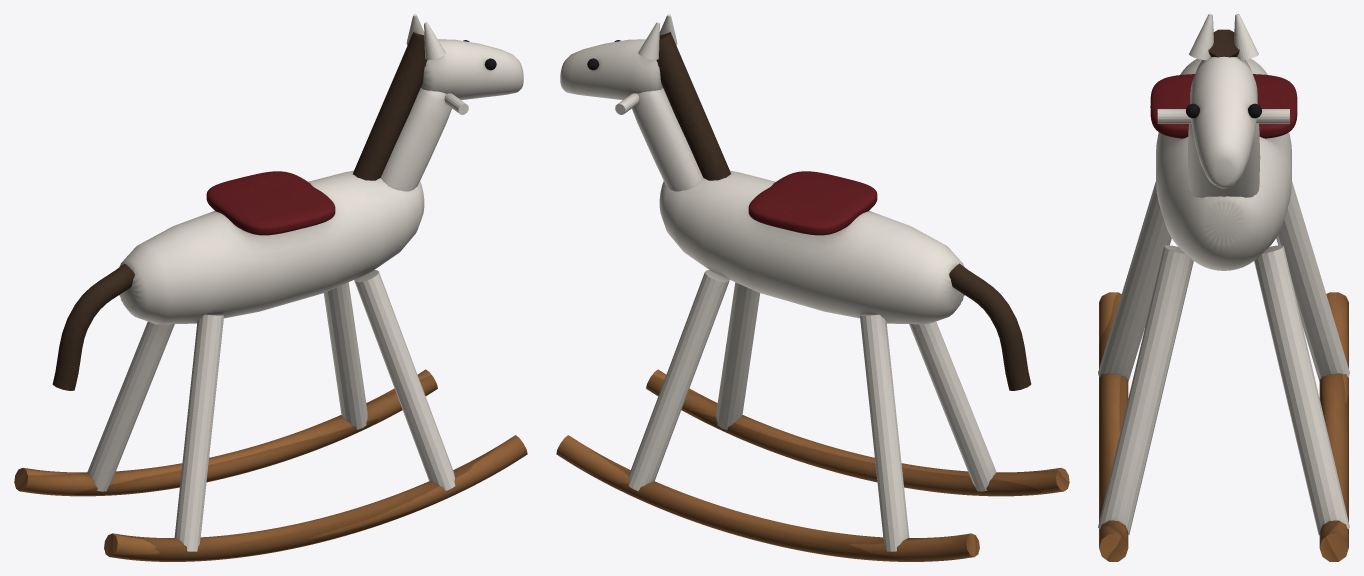
Rendered from painted-white.glb.
3 views of the same model, side by side, from view 1: azimuth 30°, elevation 25°; view 2: azimuth 150°, elevation 25°; view 3: azimuth 270°, elevation 25° (orthographic). The views are drawn at different scales.
Parts seen in each view (by area): view 1: paint_primary_horse, wood_rocker, mane_yarn, saddle_leather; view 2: paint_primary_horse, wood_rocker, mane_yarn, saddle_leather; view 3: paint_primary_horse, wood_rocker, saddle_leather, mane_yarn, eye_black.
Part boxes in pixels (x1,y1,x2,y2): paint_primary_horse: [87, 14, 523, 551]; wood_rocker: [14, 369, 527, 561]; mane_yarn: [52, 32, 427, 390]; saddle_leather: [206, 171, 335, 235]; paint_primary_horse: [560, 14, 996, 551]; wood_rocker: [556, 369, 1069, 561]; mane_yarn: [656, 32, 1031, 390]; saddle_leather: [748, 171, 877, 235]; paint_primary_horse: [1098, 14, 1349, 535]; wood_rocker: [1099, 292, 1348, 561]; saddle_leather: [1150, 74, 1297, 138]; mane_yarn: [1208, 29, 1239, 57]; eye_black: [1186, 103, 1261, 118].
Size of the model in its own units: 0.8983 by 0.8375 by 0.3428.
Materials: 5 (4 with a texture image).
